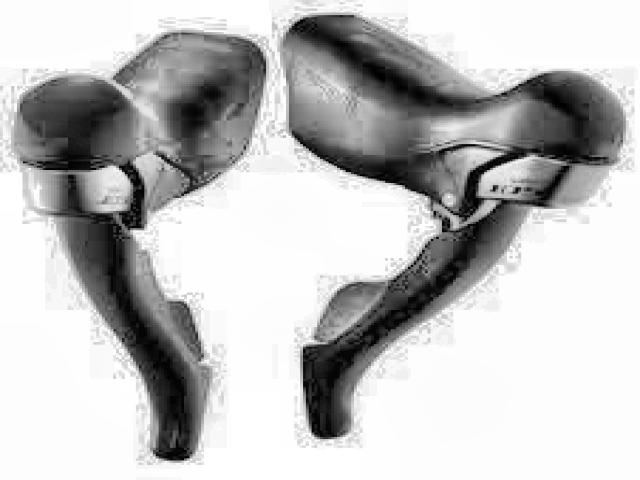sti_shifter: (280, 10, 629, 442), (10, 31, 271, 466)
